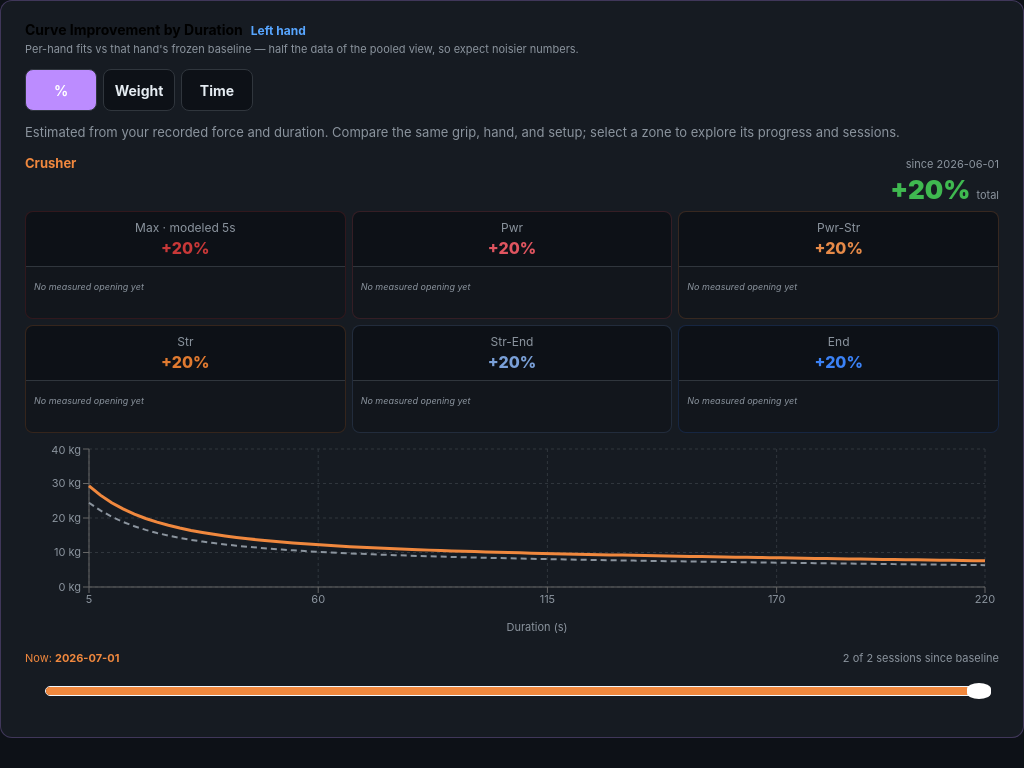
Test: hand view renders the curve + Now slider when the hand has overlay data
Expected: the text "2 of 2 sessions since baseline" is shown, [843, 651, 999, 665]
Expected: the text "2026-07-01" is shown, [55, 651, 120, 665]
# Scrub back to the first post-baseline session.
Set the slider to "0": (33, 691) [25, 669, 999, 713]
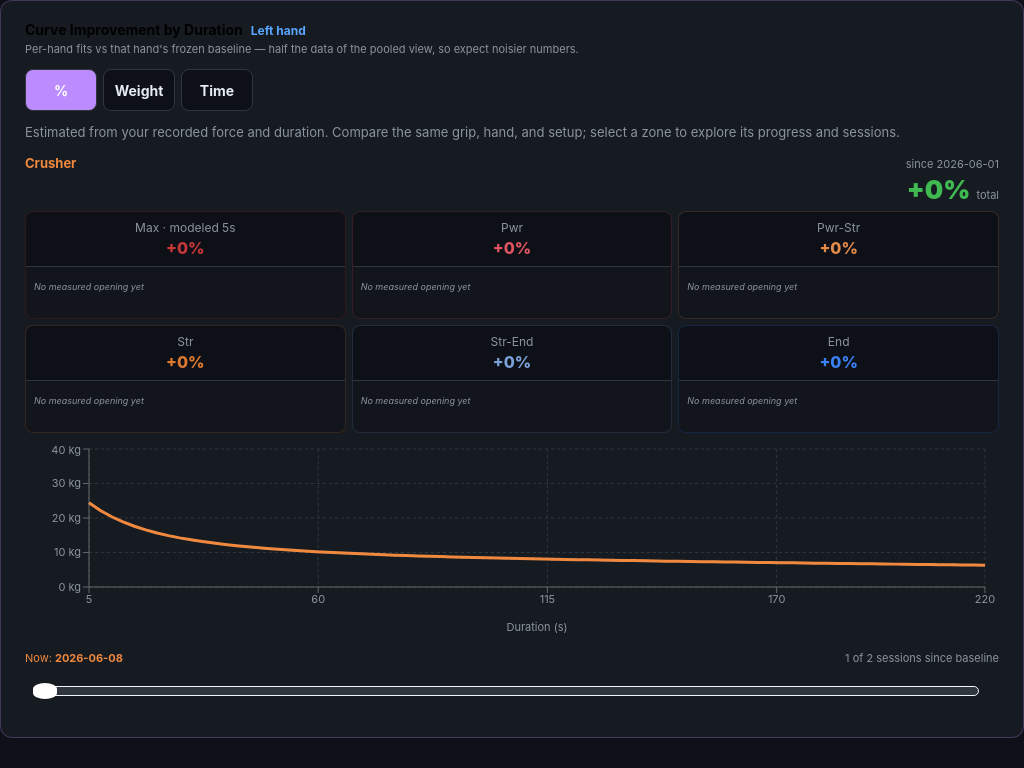
Now the text "1 of 2 sessions since baseline" is shown, box [845, 651, 999, 665]
Now the text "2026-06-08" is shown, box [55, 651, 123, 665]
